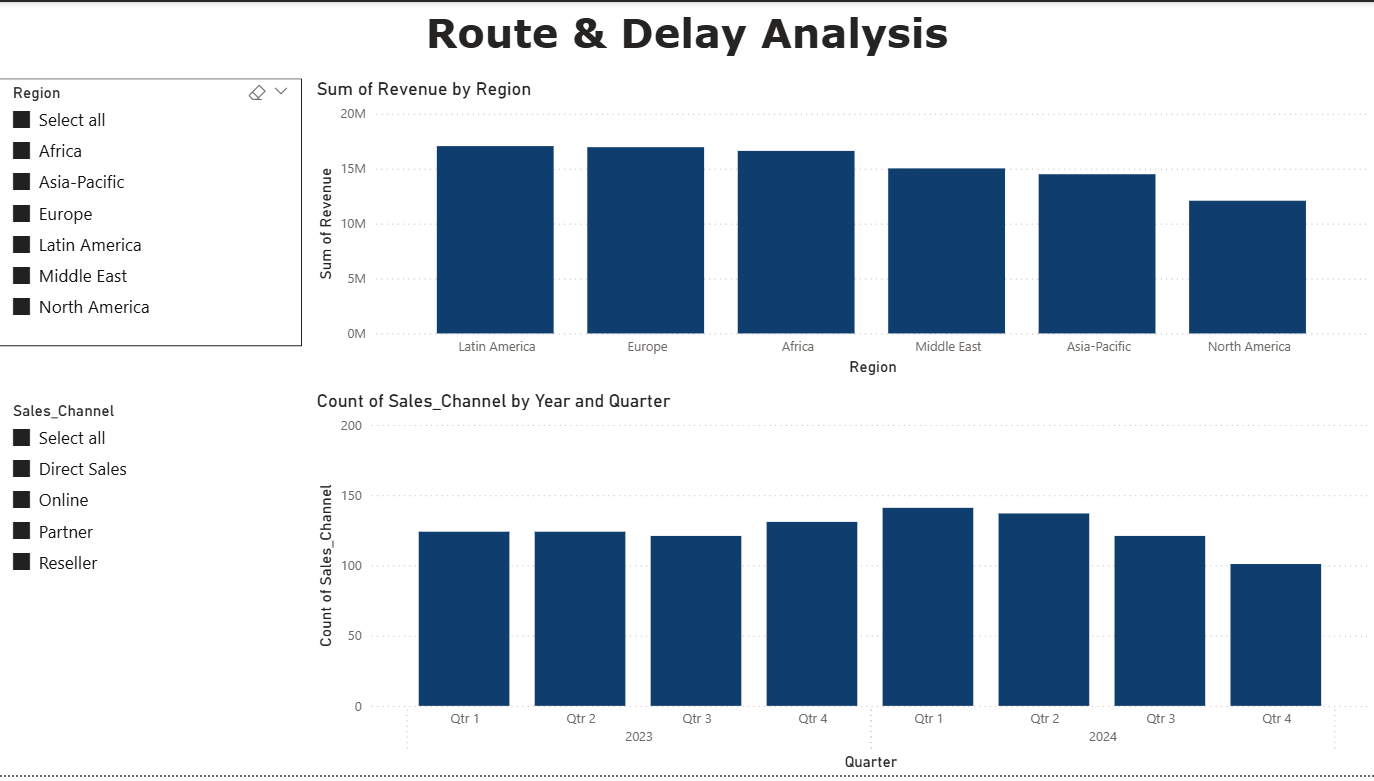

What the dashboard file says about the page in this screenshot:
{"tool":"powerbi","page":{"name":"Page 2","canvas":[1280,720],"ordinal":1},"visuals":[{"type":"slicer","fields":{"Values":["Sheet1.Region"]},"box":[0,70.9,281.4,250],"z":0},{"type":"clusteredColumnChart","fields":{"Y":["Sum(Sheet1.Revenue)"],"Category":["Sheet1.Region"]},"box":[290.7,70.9,989.5,281.4],"z":1000},{"type":"slicer","fields":{"Values":["Sheet1.Sales_Channel"]},"box":[0,366.3,279.1,186],"z":2000},{"type":"columnChart","fields":{"Category":["Sheet1.Date.Variation.Date Hierarchy.Year","Sheet1.Date.Variation.Date Hierarchy.Quarter"],"Y":["CountNonNull(Sheet1.Sales_Channel)"]},"box":[290.7,360.5,989.5,359.3],"z":3000},{"type":"textbox","box":[0,0,1280.2,70.9],"z":3001}]}

Visuals, with their boxes in screenshot pixels (x1, y1, x2, y2), scaled from the page's 1280x720 canvas onto the 1374x781 screenshot:
slicer - Sheet1.Region: region(0, 77, 302, 348)
clusteredColumnChart - Sum(Sheet1.Revenue) x Sheet1.Region: region(312, 77, 1373, 382)
slicer - Sheet1.Sales_Channel: region(0, 397, 300, 599)
columnChart - Sheet1.Date.Variation.Date Hierarchy.Year x Sheet1.Date.Variation.Date Hierarchy.Quarter: region(312, 391, 1373, 780)
textbox: region(0, 0, 1373, 77)
